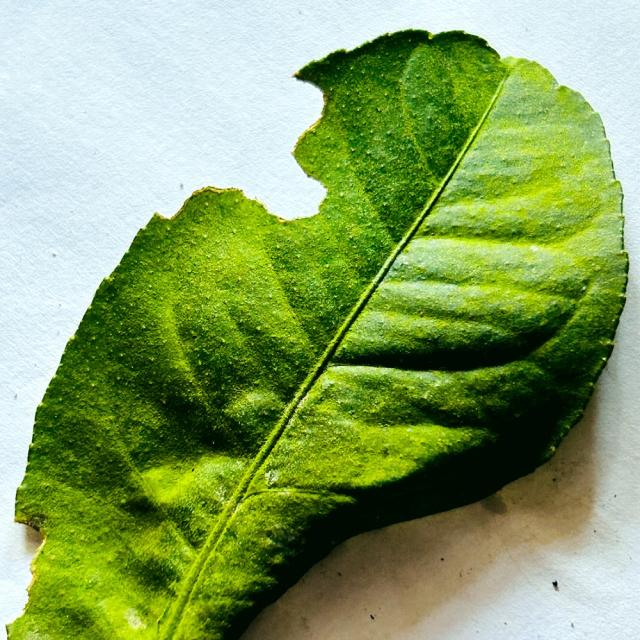Deficiency Leaf: (233, 66, 321, 218), (15, 516, 45, 614)
Lemon: (8, 30, 627, 639)
